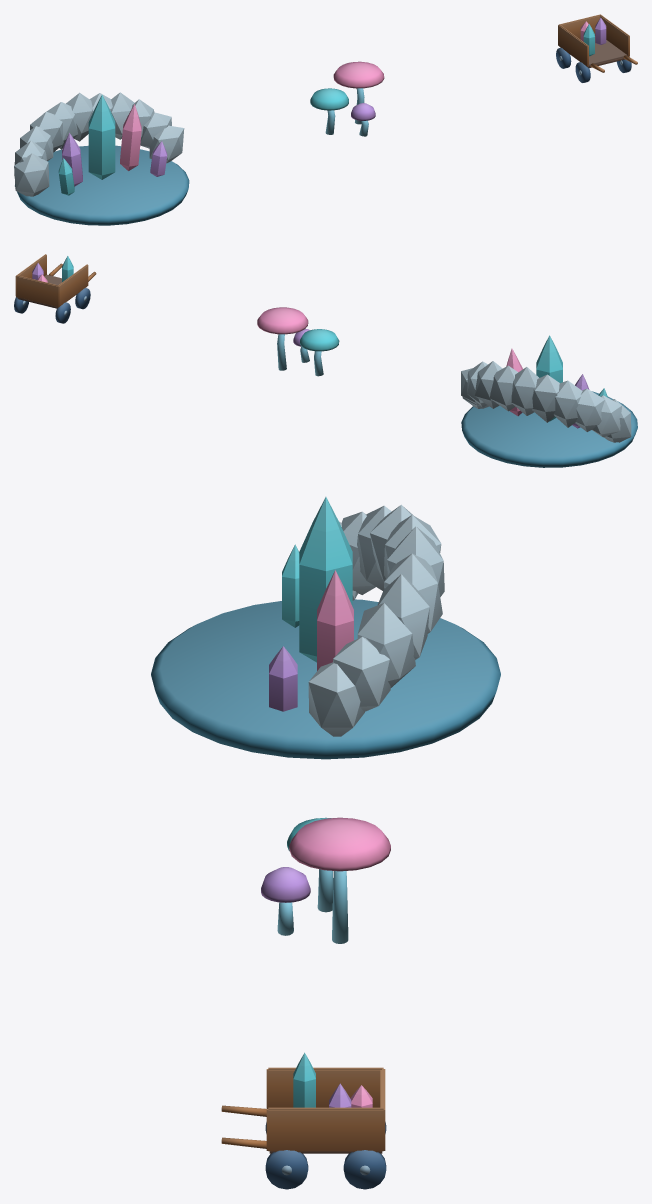
Rendered from Crystal.fbx.
3 renders of one model, top to bottom at view 1: azimuth 30°, elevation 25°; view 2: azimuth 150°, elevation 25°; view 3: azimuth 270°, elevation 25°, orthographic. The views are drawn at different scales.
Visible parts, largest first — view 1: Crystal_PrismaticGeode, Crystal_GemCart, Crystal_LuminousMushrooms; view 2: Crystal_PrismaticGeode, Crystal_GemCart, Crystal_LuminousMushrooms; view 3: Crystal_PrismaticGeode, Crystal_GemCart, Crystal_LuminousMushrooms.
Boxes of the visible parts, left/top/right/bottom form: Crystal_PrismaticGeode: left=14, top=92, right=189, bottom=225; Crystal_GemCart: left=556, top=14, right=637, bottom=82; Crystal_LuminousMushrooms: left=310, top=61, right=384, bottom=136; Crystal_PrismaticGeode: left=461, top=335, right=637, bottom=467; Crystal_GemCart: left=14, top=254, right=96, bottom=323; Crystal_LuminousMushrooms: left=257, top=307, right=339, bottom=376; Crystal_PrismaticGeode: left=151, top=497, right=500, bottom=759; Crystal_GemCart: left=221, top=1052, right=386, bottom=1189; Crystal_LuminousMushrooms: left=261, top=817, right=390, bottom=943.
Bounding box in the file's own units: 58.42 × 8.9 × 14.8.
1 material, 1 textured.
